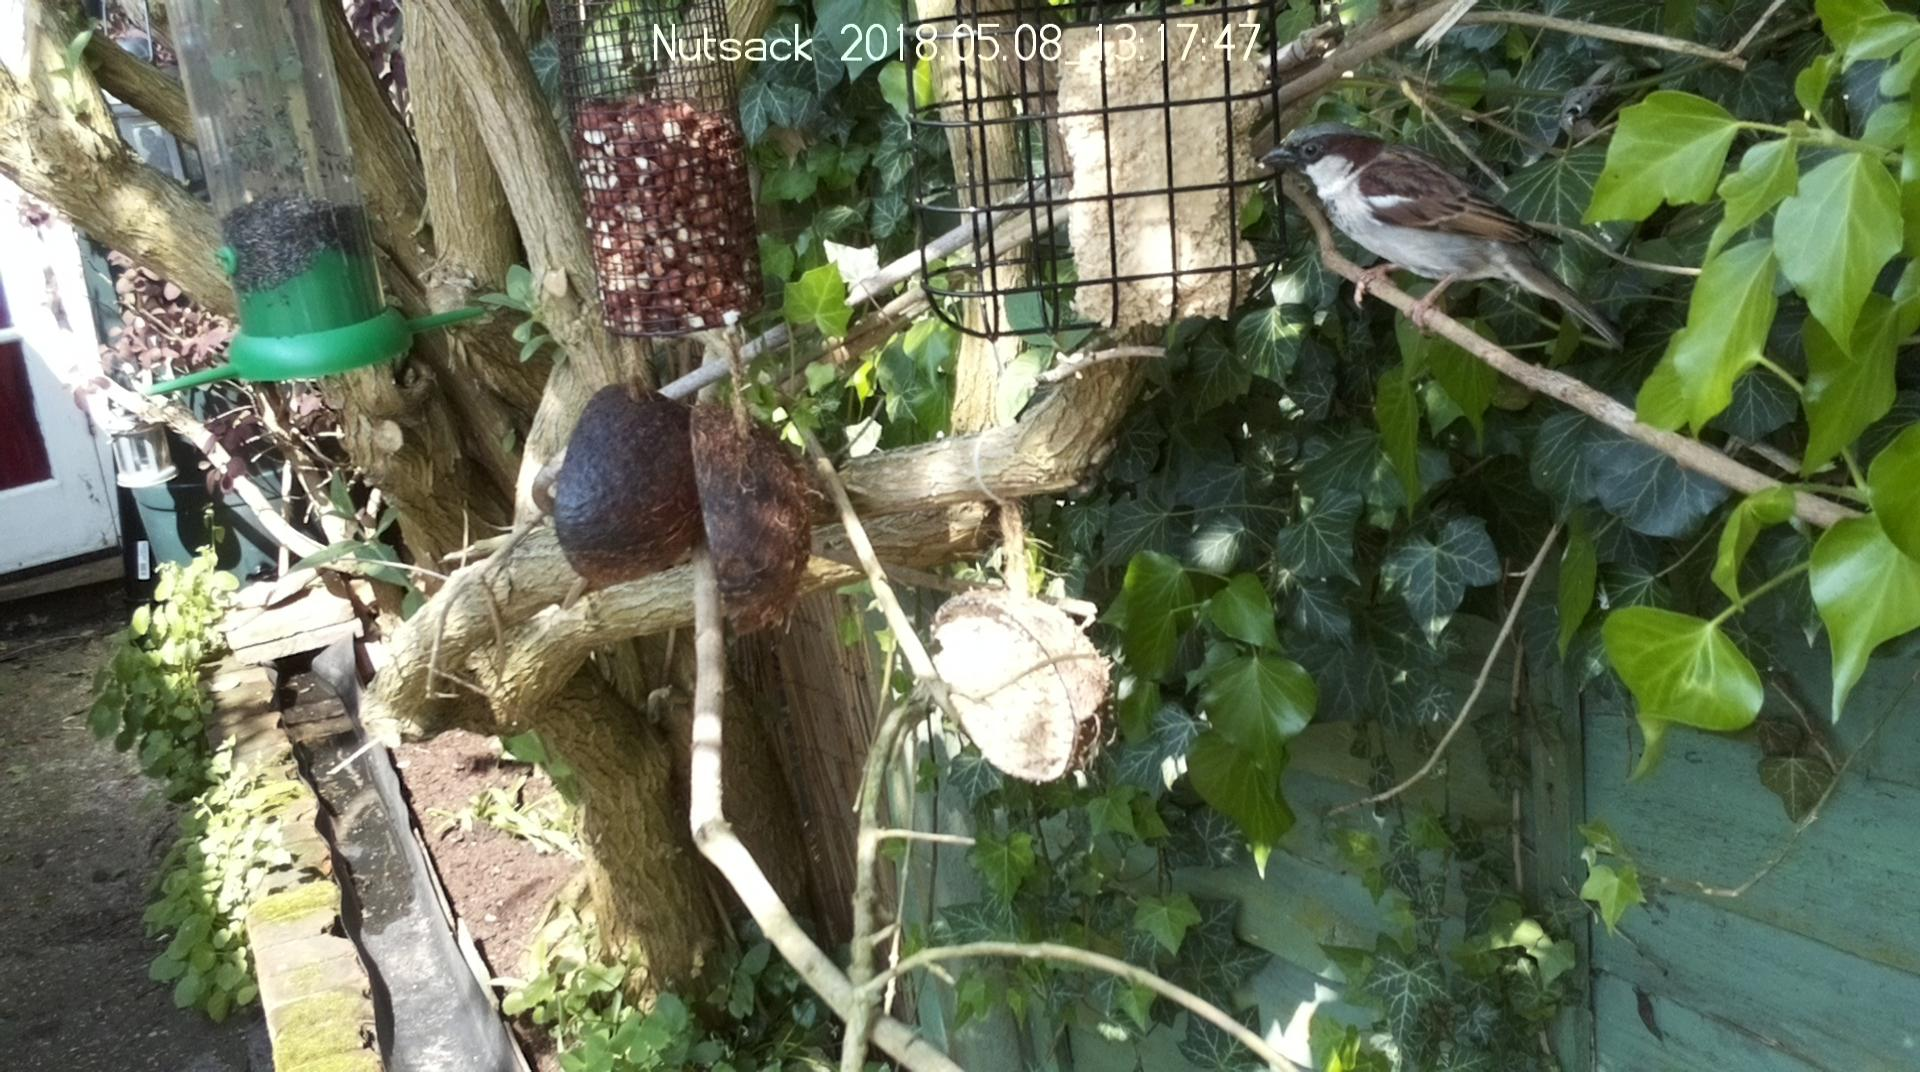sparrow: (1259, 120, 1623, 345)
